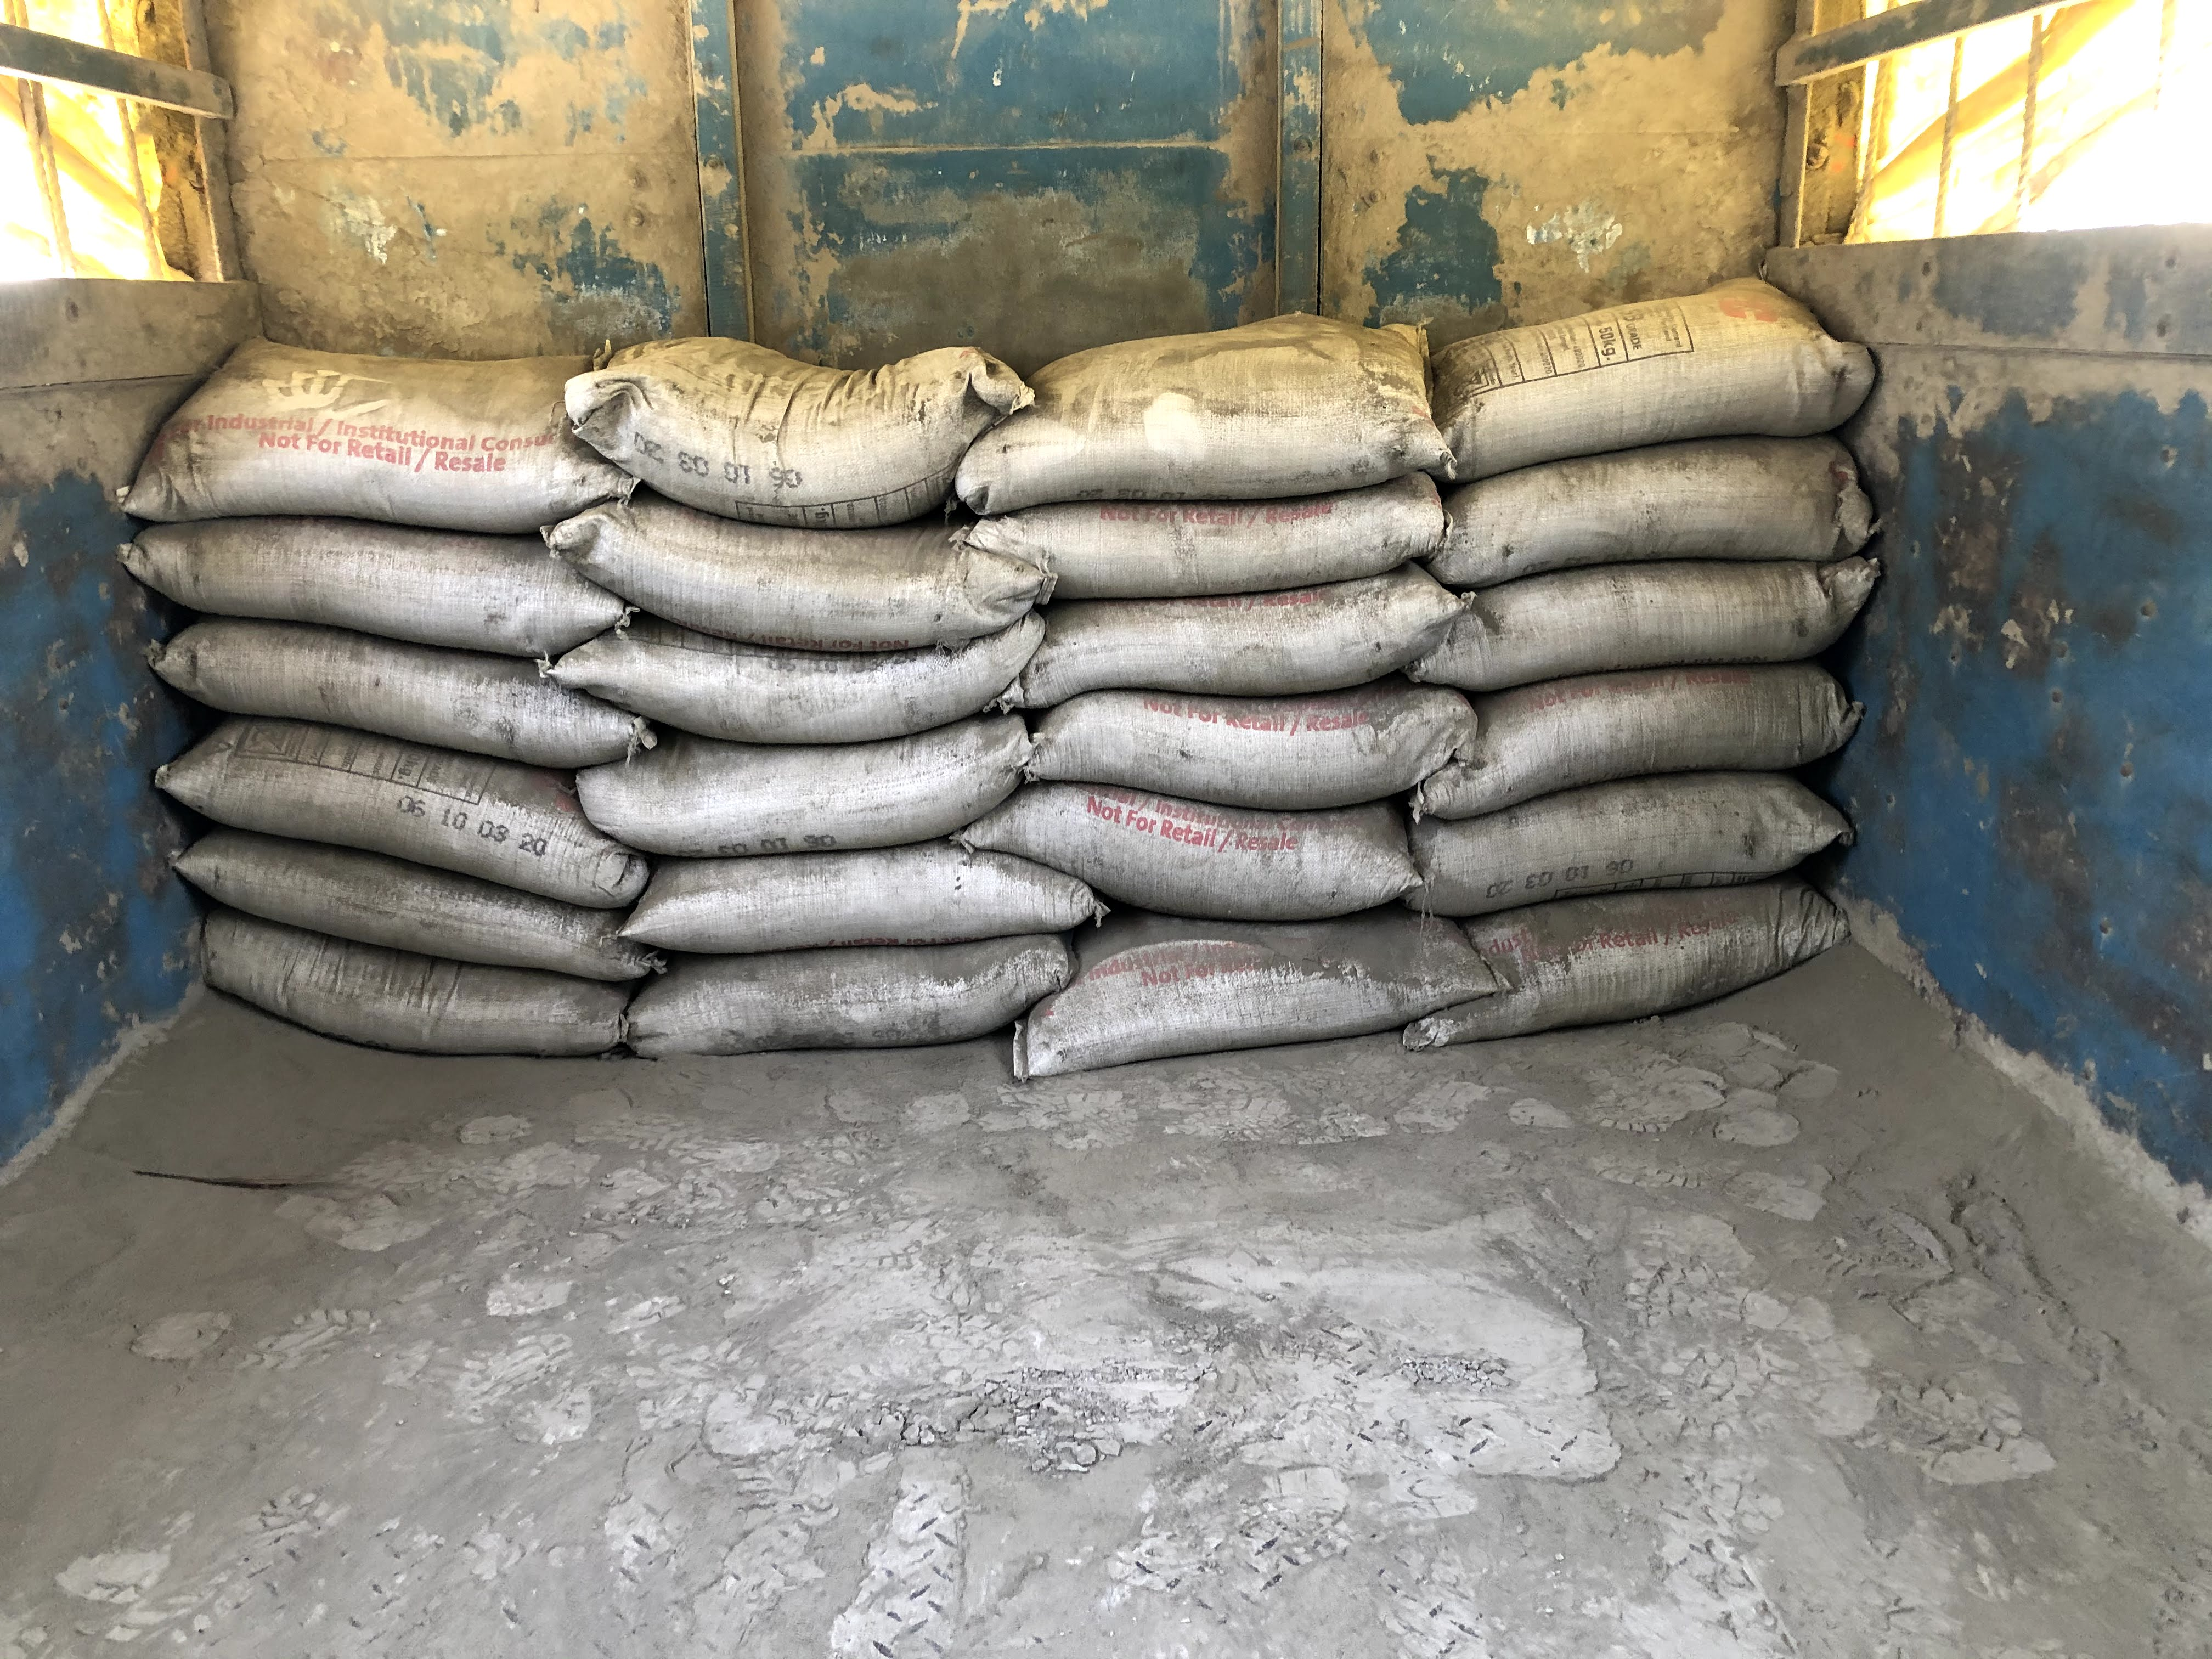cement bag: (139, 329, 625, 545), (150, 720, 646, 911), (561, 326, 1010, 525), (542, 479, 1042, 657), (124, 500, 636, 664), (1409, 277, 1860, 460), (146, 624, 648, 784), (164, 833, 683, 985), (982, 324, 1449, 490), (1012, 911, 1480, 1073), (981, 765, 1430, 927), (1409, 890, 1850, 1044), (181, 917, 643, 1061), (549, 613, 1043, 739), (1439, 457, 1890, 587), (613, 838, 1096, 958), (1022, 572, 1477, 695), (549, 728, 1033, 843), (1420, 544, 1874, 664), (599, 945, 1071, 1058), (982, 490, 1449, 592), (1031, 688, 1477, 795), (1449, 676, 1855, 791), (1400, 798, 1843, 884)
